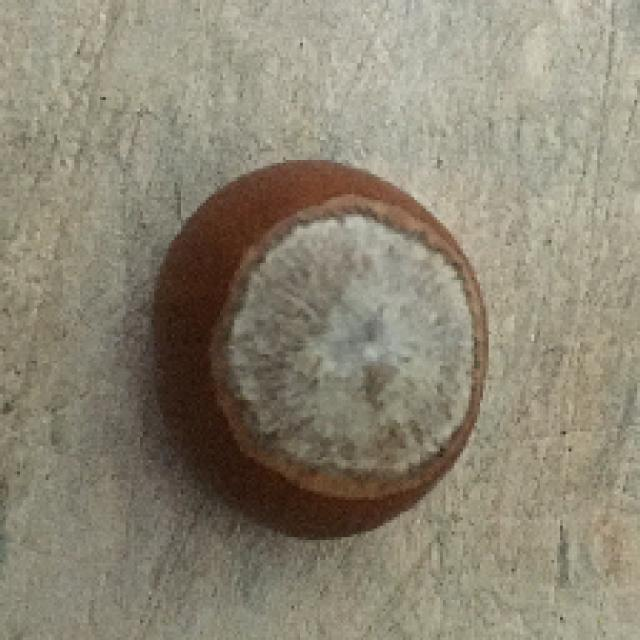qualityHazelnut: (152, 158, 489, 546)
